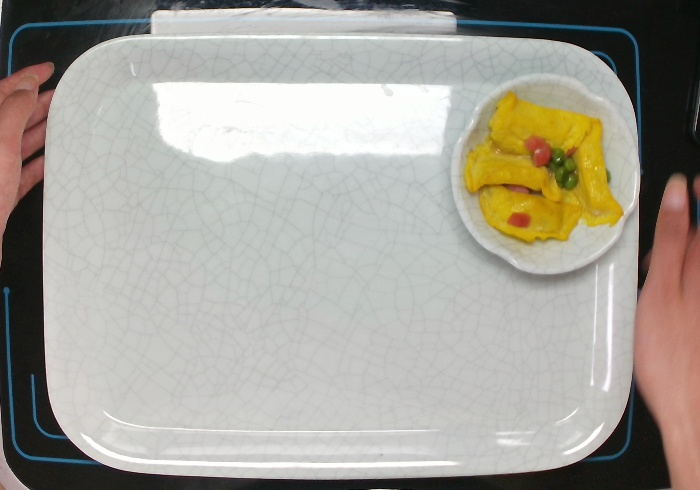JYsf-Ao_Yuan_Wan: (449, 71, 641, 275)
